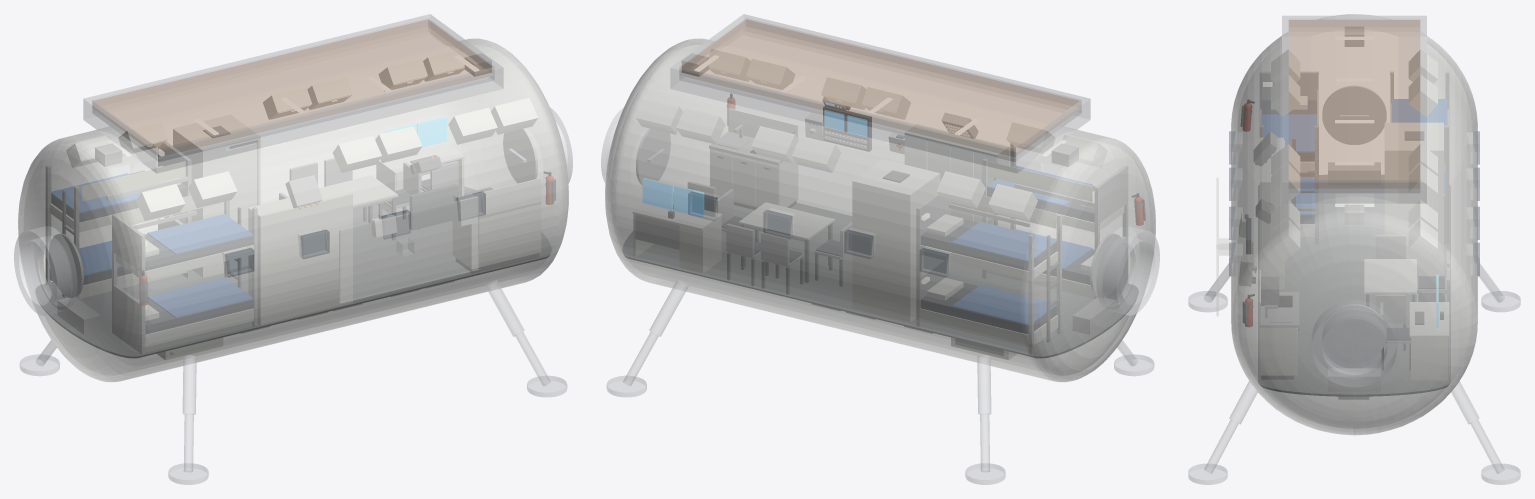
File: rover10_surface_hab_combined.glb
3 views of the same model, side by side, from view 1: azimuth 30°, elevation 25°; view 2: azimuth 150°, elevation 25°; view 3: azimuth 270°, elevation 25° (orthographic).
Parts seen in each view (by area): view 1: pressure_vessel, ext_hull, ext_regolith_fill, ext_shield_tray, stowage_lockers, deck_floor, ext_radiator, eq39_1_body, eq39_2_body, ext_hatch_collars, eq34_1_blankets, eq37_1_cabinet (+27 smaller); view 2: pressure_vessel, ext_hull, ext_regolith_fill, ext_shield_tray, stowage_lockers, deck_floor, eq40_1_walls, ext_hatch_collars, eq34_2_blankets, eq34_2_mattresses, eq34_2_berths, ext_leveling_legs (+33 smaller); view 3: pressure_vessel, ext_hull, ext_regolith_fill, deck_floor, ext_shield_tray, stowage_lockers, eq40_1_walls, ext_hatch_collars, hatch_door_1, ext_leveling_legs, hatch_door_2, ext_foot_pads (+23 smaller).
Part boxes in pixels (x1,y1,x2,y2): pressure_vessel: (18, 39, 568, 381); ext_hull: (18, 38, 568, 381); ext_regolith_fill: (92, 19, 494, 156); ext_shield_tray: (83, 14, 503, 173); stowage_lockers: (66, 49, 537, 220); deck_floor: (35, 187, 551, 358); ext_radiator: (339, 196, 478, 303); eq39_1_body: (248, 198, 306, 325); eq39_2_body: (307, 185, 352, 313); ext_hatch_collars: (14, 107, 572, 315); eq34_1_blankets: (147, 214, 252, 317); eq37_1_cabinet: (453, 204, 540, 268); pressure_vessel: (605, 38, 1155, 381); ext_hull: (605, 39, 1155, 381); ext_regolith_fill: (679, 19, 1081, 156); ext_shield_tray: (670, 14, 1090, 173); stowage_lockers: (636, 49, 1107, 220); deck_floor: (622, 203, 1138, 358); eq40_1_walls: (852, 159, 939, 321); ext_hatch_collars: (601, 107, 1159, 315); eq34_2_blankets: (952, 222, 1056, 325); eq34_2_mattresses: (921, 219, 1056, 333); eq34_2_berths: (920, 245, 1057, 346); ext_leveling_legs: (623, 280, 1137, 471); pressure_vessel: (1231, 14, 1477, 435); ext_hull: (1231, 14, 1477, 435); ext_regolith_fill: (1289, 20, 1419, 188); deck_floor: (1258, 175, 1450, 396); ext_shield_tray: (1282, 16, 1426, 203); stowage_lockers: (1271, 49, 1437, 261); eq40_1_walls: (1385, 123, 1443, 275); ext_hatch_collars: (1312, 300, 1396, 386); hatch_door_1: (1322, 304, 1386, 363); ext_leveling_legs: (1204, 258, 1504, 473); hatch_door_2: (1322, 86, 1386, 144); ext_foot_pads: (1188, 291, 1520, 484).
Size of the model in its own units: 8.91 by 4.88 by 5.05.
